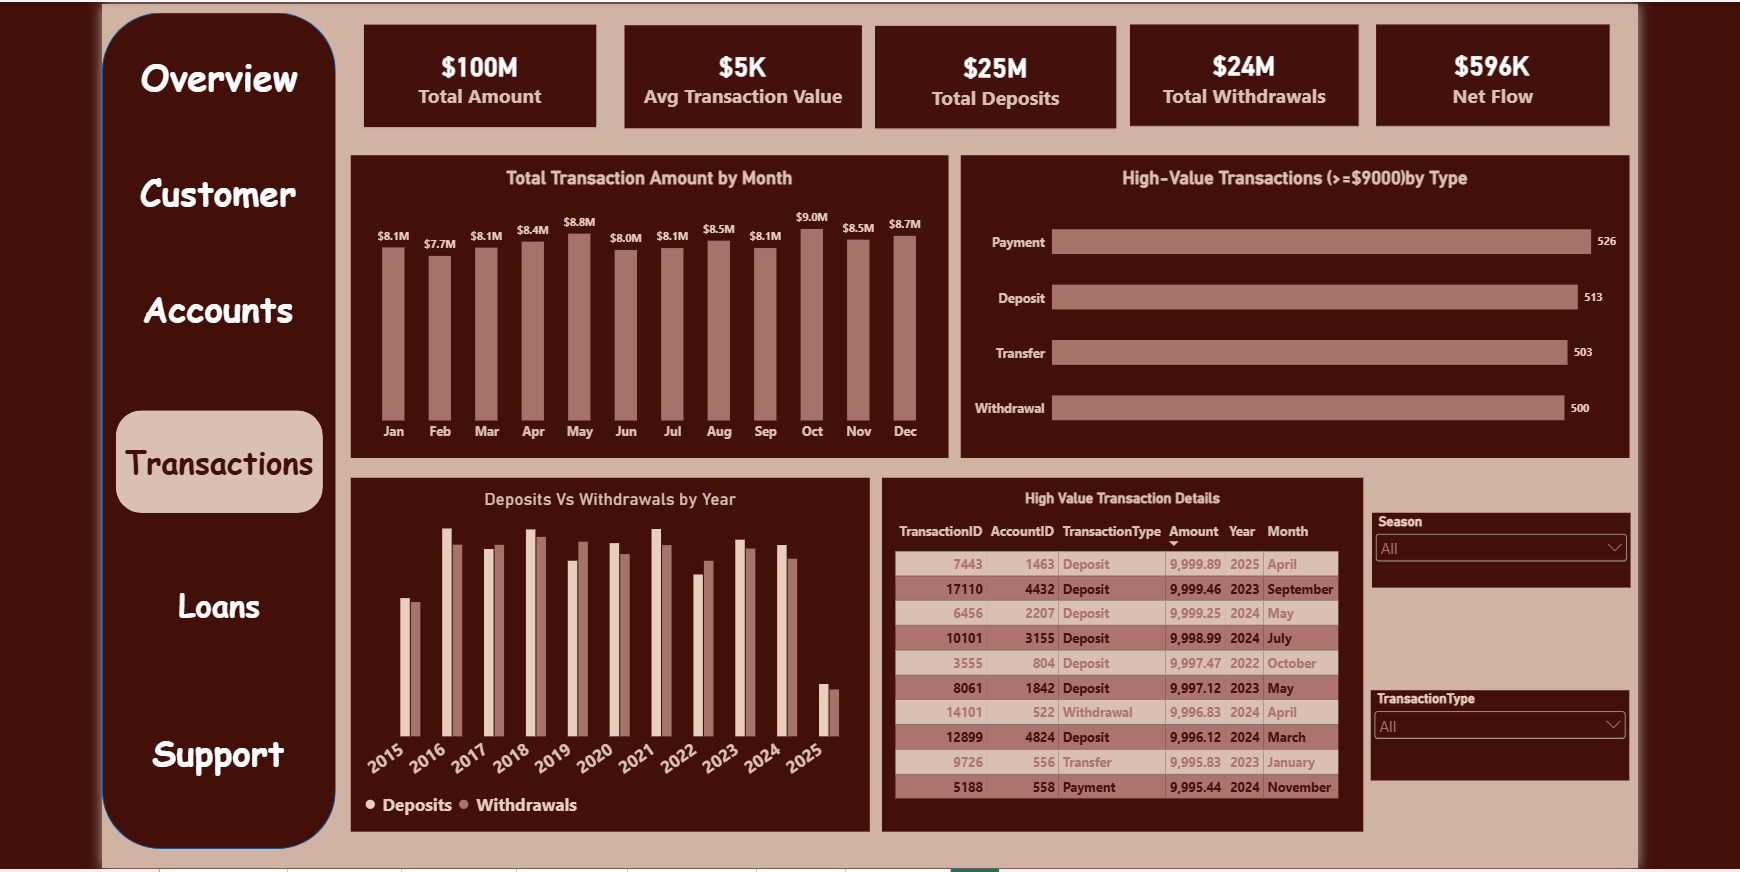

Layout of this report page (visuals, bound fields, positions):
{"tool":"powerbi","page":{"name":"Transaction","canvas":[1920,1080],"ordinal":4},"visuals":[{"type":"shape","box":[0,10.9,292.2,1045.3],"z":0},{"type":"shape","box":[17.1,32.9,258.9,116.1],"z":1000},{"type":"shape","box":[15.7,315.7,258.9,128.6],"z":2000},{"type":"shape","box":[17.2,507.8,258.9,128.6],"z":3000},{"type":"shape","box":[17.2,685.9,258.9,128.6],"z":4000},{"type":"shape","box":[15.7,170,258.9,128.6],"z":5000},{"type":"shape","box":[15.6,870.3,258.9,128.6],"z":6000},{"type":"advanceCardE03760C5AB684758B56AA29F9E6C257B","fields":{"mainMeasure":["Transactions_Measures.Total Amount"]},"box":[311.4,11.4,322.9,158.6],"z":7000},{"type":"advanceCardE03760C5AB684758B56AA29F9E6C257B","fields":{"mainMeasure":["Transactions_Measures.Avg Transaction Value"]},"box":[652.9,27.1,297.1,128.6],"z":8000},{"type":"advanceCardE03760C5AB684758B56AA29F9E6C257B","fields":{"mainMeasure":["Transactions_Measures.Total Deposits"]},"box":[950,12.9,334.3,158.6],"z":9000},{"type":"advanceCardE03760C5AB684758B56AA29F9E6C257B","fields":{"mainMeasure":["Transactions_Measures.Total Withdrawals"]},"box":[1268.6,11.4,318.6,157.1],"z":10000},{"type":"advanceCardE03760C5AB684758B56AA29F9E6C257B","fields":{"mainMeasure":["Transactions_Measures.Net Flow"]},"box":[1577.1,11.4,324.3,157.1],"z":11000},{"type":"clusteredColumnChart","title":"Total Transaction Amount by Month ","fields":{"Category":["Transactions.Month Name"],"Y":["Transactions_Measures.Total Amount"]},"box":[310.9,189.1,746.9,378.1],"z":12000},{"type":"clusteredBarChart","title":"High-Value Transactions (>=$9000)by Type","fields":{"Category":["Transactions.TransactionType"],"Y":["Transactions_Measures.High-Value Transactions"]},"box":[1073.4,189.1,835.9,378.1],"z":13000},{"type":"clusteredColumnChart","title":"Deposits Vs Withdrawals by Year","fields":{"Category":["Calendar.Year"],"Y":["Transactions_Measures.Total Deposits","Transactions_Measures.Total Withdrawals"]},"box":[310.9,592.2,648.4,442.2],"z":14000},{"type":"tableEx","title":"High Value Transaction Details","fields":{"Values":["Transactions.TransactionID","Transactions.AccountID","Transactions.TransactionType","Transactions.Amount","Transactions.TransactionDate.Variation.Date Hierarchy.Year","Transactions.TransactionDate.Variation.Date Hierarchy.Month"]},"box":[975,592.2,601.6,442.2],"z":15000},{"type":"slicer","fields":{"Values":["Transactions.TransactionType"]},"box":[1585.9,857.8,323.4,112.5],"z":16000},{"type":"slicer","fields":{"Values":["Transactions.Season"]},"box":[1587.5,635.9,323.4,93.8],"z":17000}]}

Visuals, with their boxes on the page's 1920x1080 design canvas (x1, y1, x2, y2). These are canvas units, not pixel positions in the 1740x872 screenshot, which may show the page scaled, cropped or inside an application window:
shape: {"x1": 0, "y1": 11, "x2": 292, "y2": 1056}
shape: {"x1": 17, "y1": 33, "x2": 276, "y2": 149}
shape: {"x1": 16, "y1": 316, "x2": 275, "y2": 444}
shape: {"x1": 17, "y1": 508, "x2": 276, "y2": 636}
shape: {"x1": 17, "y1": 686, "x2": 276, "y2": 814}
shape: {"x1": 16, "y1": 170, "x2": 275, "y2": 299}
shape: {"x1": 16, "y1": 870, "x2": 274, "y2": 999}
advanceCardE03760C5AB684758B56AA29F9E6C257B - Transactions_Measures.Total Amount: {"x1": 311, "y1": 11, "x2": 634, "y2": 170}
advanceCardE03760C5AB684758B56AA29F9E6C257B - Transactions_Measures.Avg Transaction Value: {"x1": 653, "y1": 27, "x2": 950, "y2": 156}
advanceCardE03760C5AB684758B56AA29F9E6C257B - Transactions_Measures.Total Deposits: {"x1": 950, "y1": 13, "x2": 1284, "y2": 172}
advanceCardE03760C5AB684758B56AA29F9E6C257B - Transactions_Measures.Total Withdrawals: {"x1": 1269, "y1": 11, "x2": 1587, "y2": 168}
advanceCardE03760C5AB684758B56AA29F9E6C257B - Transactions_Measures.Net Flow: {"x1": 1577, "y1": 11, "x2": 1901, "y2": 168}
"Total Transaction Amount by Month " clusteredColumnChart: {"x1": 311, "y1": 189, "x2": 1058, "y2": 567}
"High-Value Transactions (>=$9000)by Type" clusteredBarChart: {"x1": 1073, "y1": 189, "x2": 1909, "y2": 567}
"Deposits Vs Withdrawals by Year" clusteredColumnChart: {"x1": 311, "y1": 592, "x2": 959, "y2": 1034}
"High Value Transaction Details" tableEx: {"x1": 975, "y1": 592, "x2": 1577, "y2": 1034}
slicer - Transactions.TransactionType: {"x1": 1586, "y1": 858, "x2": 1909, "y2": 970}
slicer - Transactions.Season: {"x1": 1588, "y1": 636, "x2": 1911, "y2": 730}
